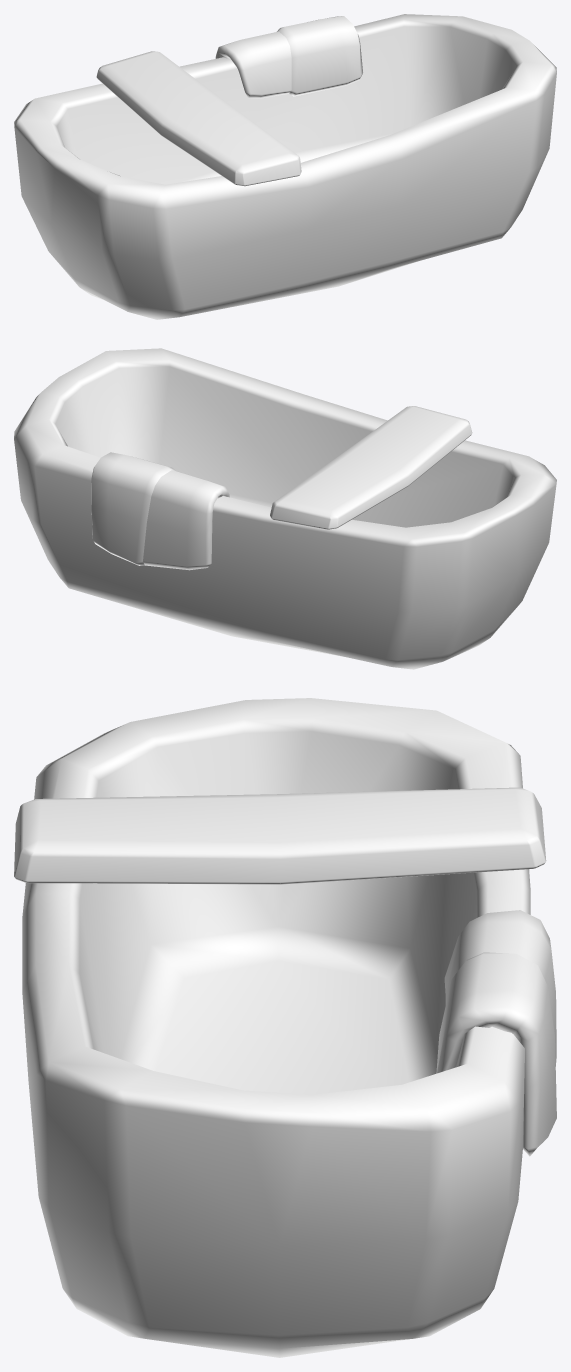
The model's file is P_StoneBathtubLarge.glb.
The picture shows the model from 3 angles, top to bottom: view 1: azimuth 30°, elevation 25°; view 2: azimuth 150°, elevation 25°; view 3: azimuth 270°, elevation 25°; orthographic projection. The views are drawn at different scales.
Parts seen in each view (by area): view 1: P_StoneBathtubLarge; view 2: P_StoneBathtubLarge; view 3: P_StoneBathtubLarge.
Boxes of the visible parts, x1,y1,x2,y2 form: P_StoneBathtubLarge: (14, 14, 556, 319); P_StoneBathtubLarge: (14, 348, 556, 669); P_StoneBathtubLarge: (14, 698, 556, 1357).
Bounding box in the file's own units: 2.05 × 0.667 × 1.1.
Materials: 1 (1 with a texture image).
